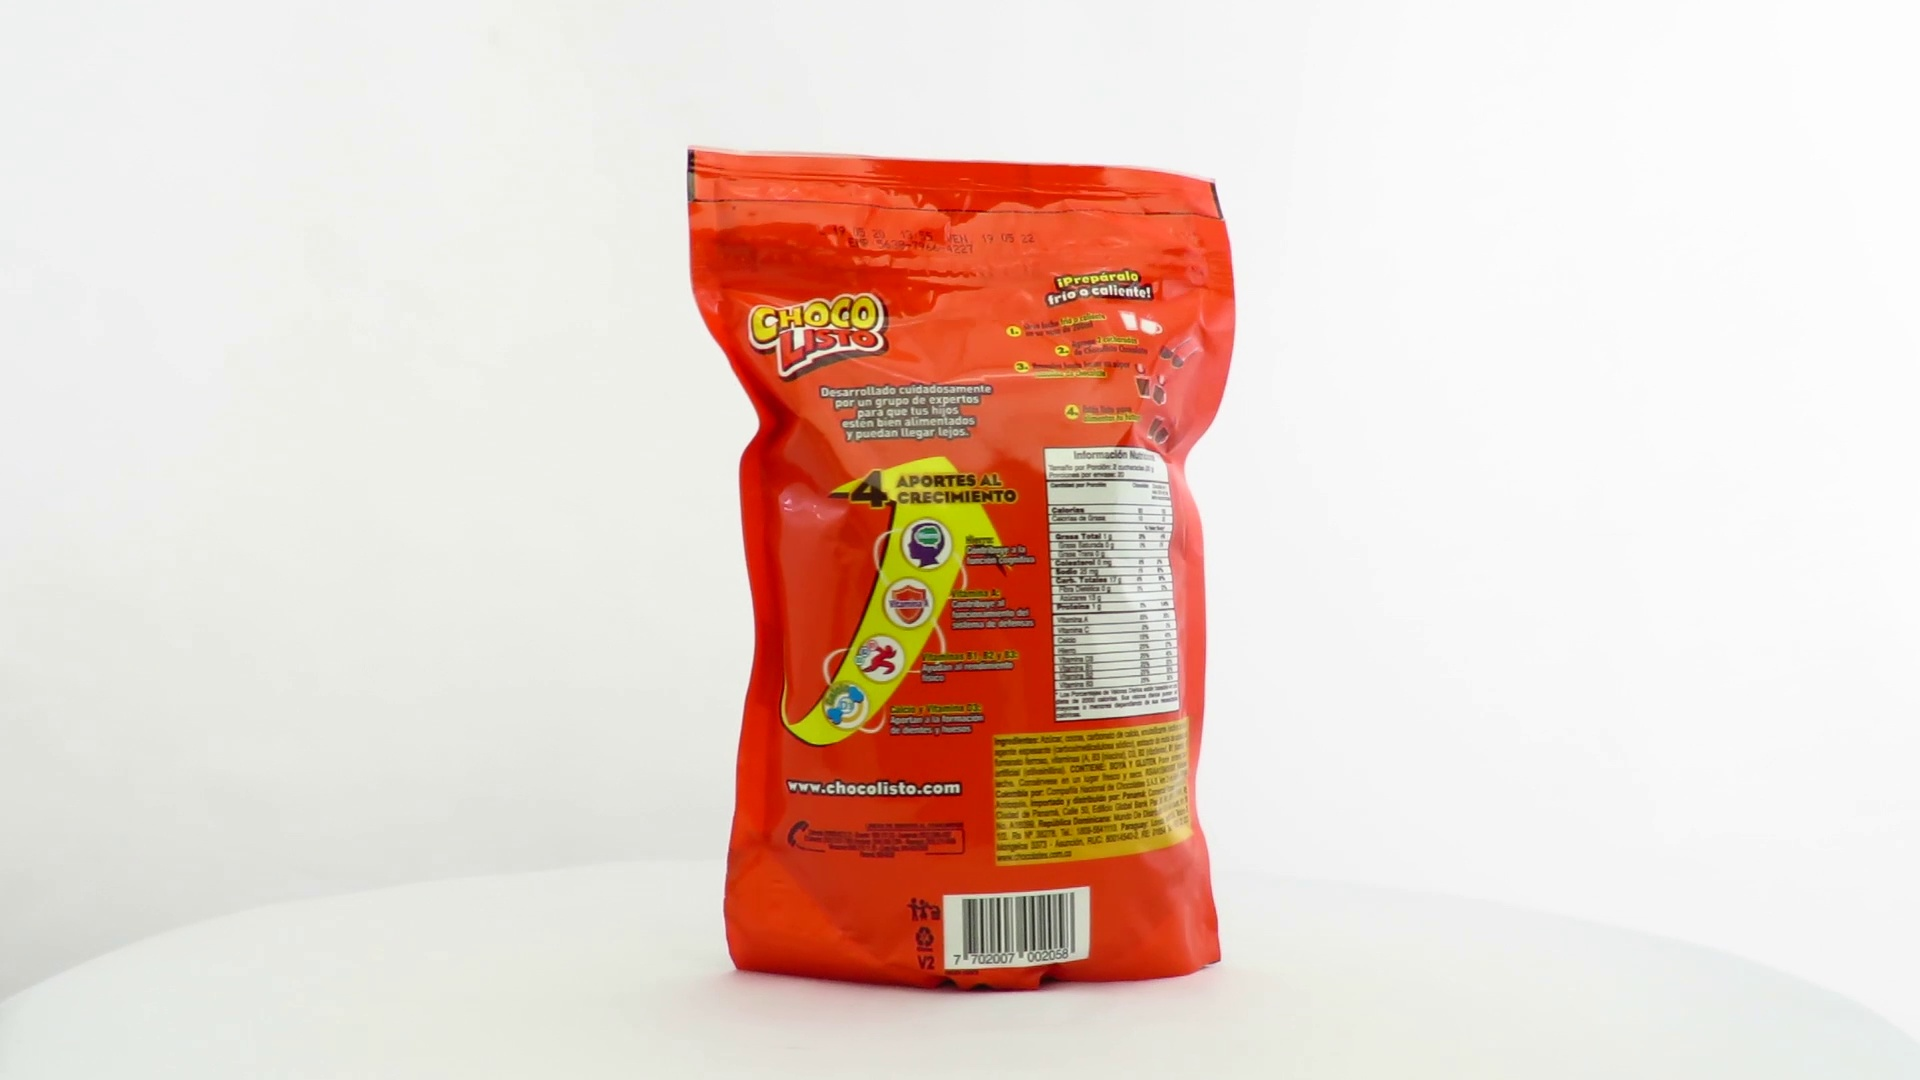COL0170103DYP40000: (680, 140, 1242, 1000)
